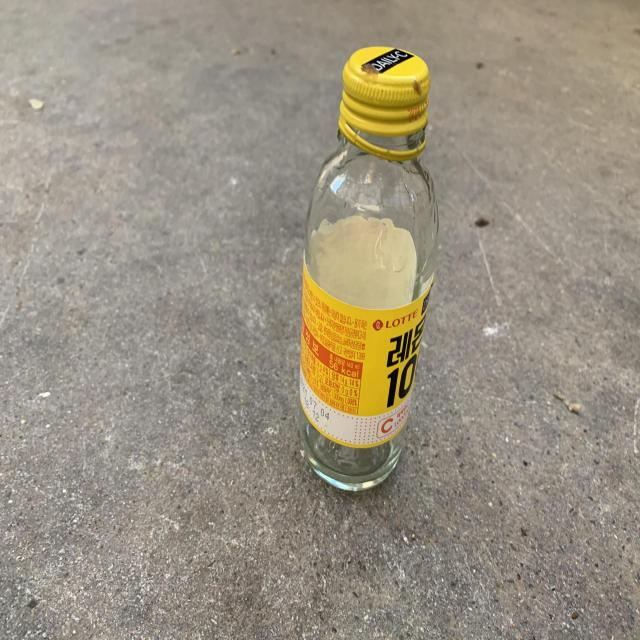glass: (299, 47, 439, 490)
